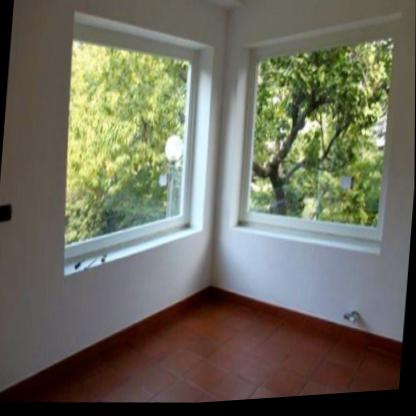Window: (231, 18, 402, 258), (64, 12, 215, 275)
